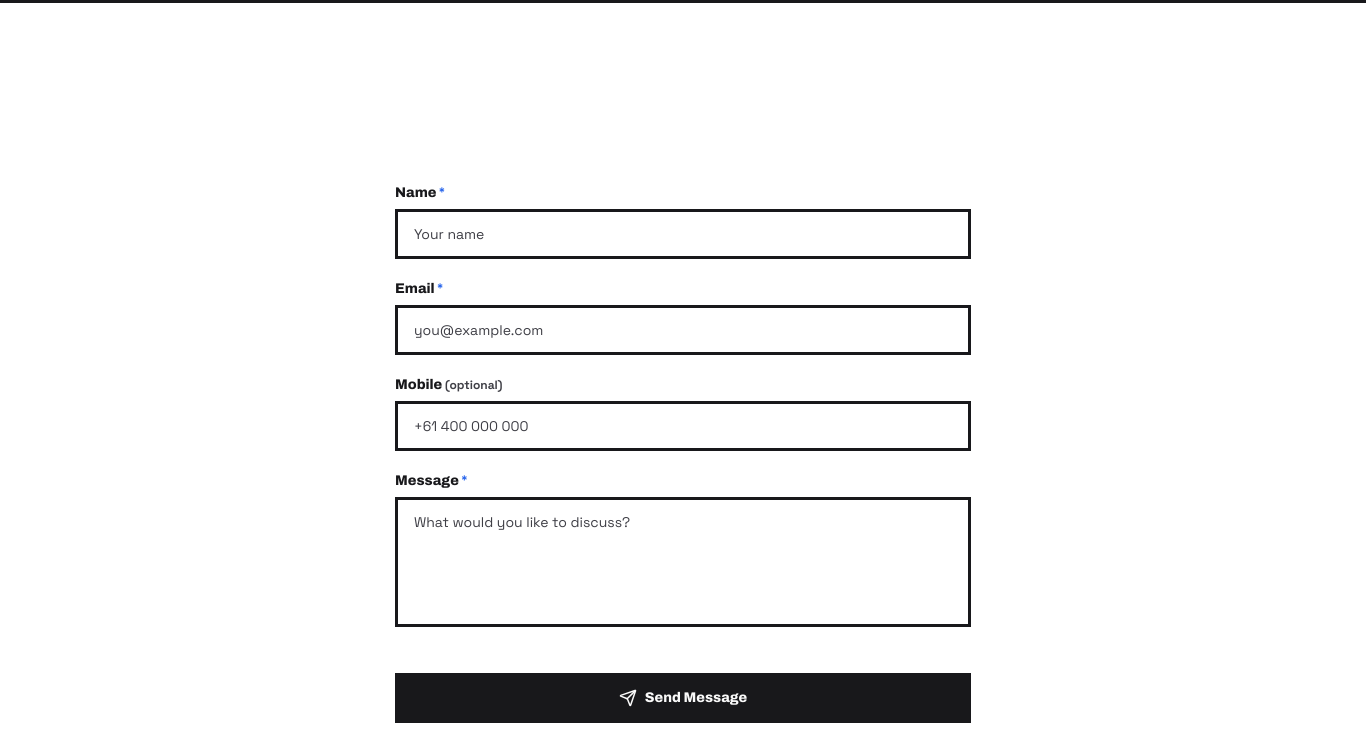
Test: ContactForm › shows email format error for invalid email
Type "not-an-email" into the field labelled "Email *". click: (683, 330)
box: [395, 305, 971, 355]
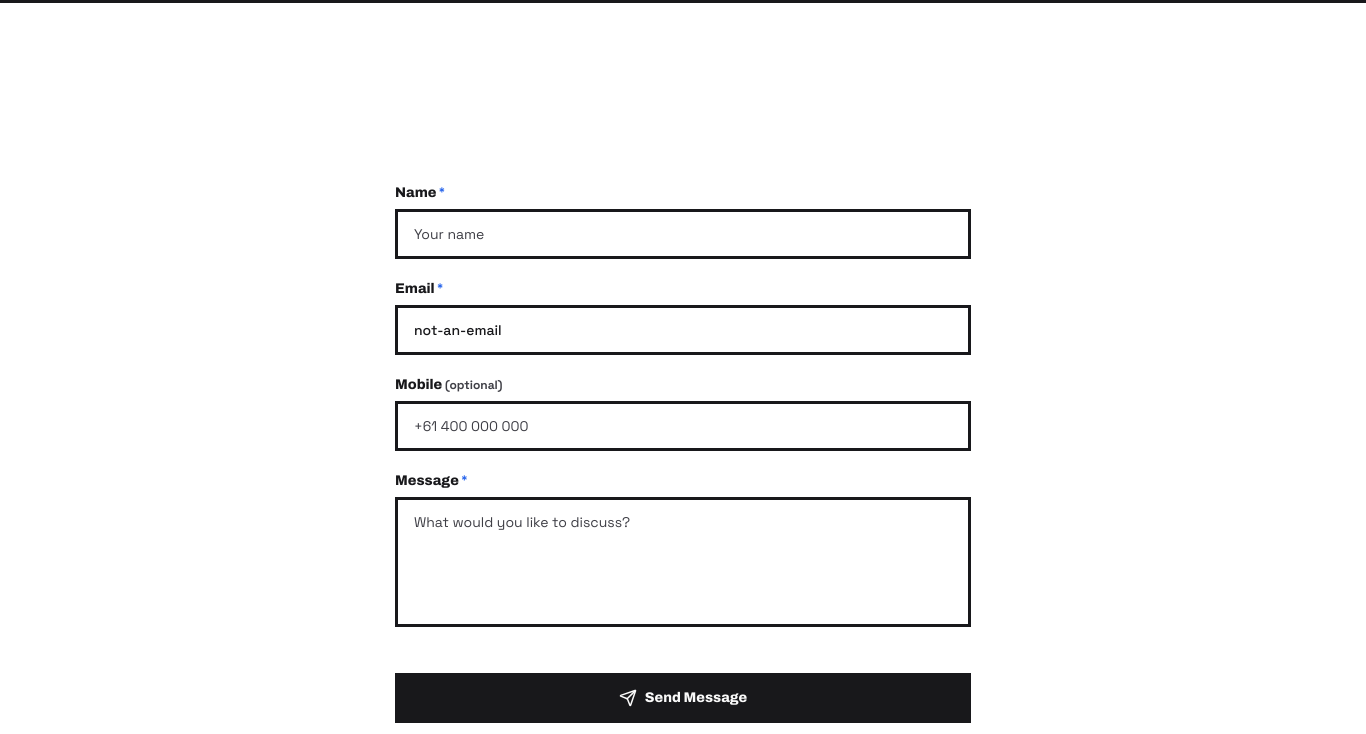
Click the button "Send Message". click: (683, 698)
box: [395, 673, 971, 723]
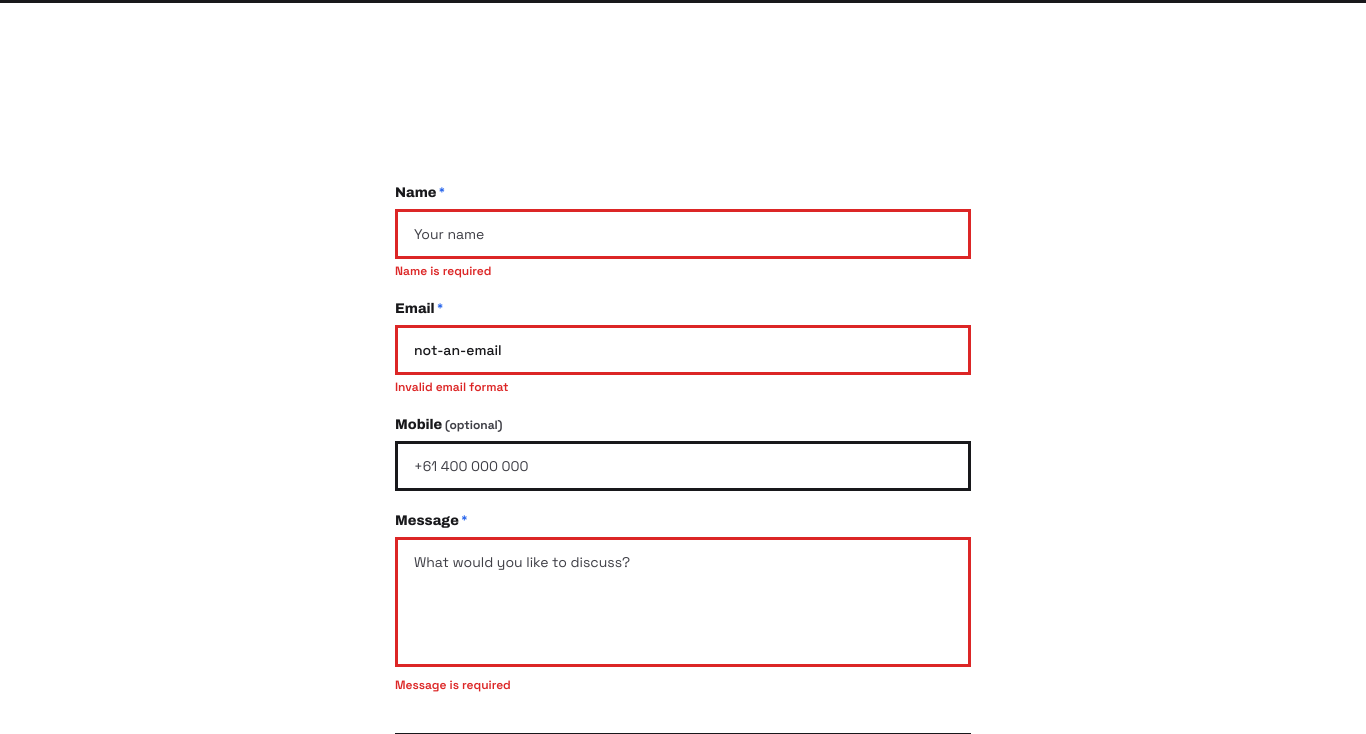
expect the text "Invalid email format" is shown: met, box [395, 379, 508, 395]
